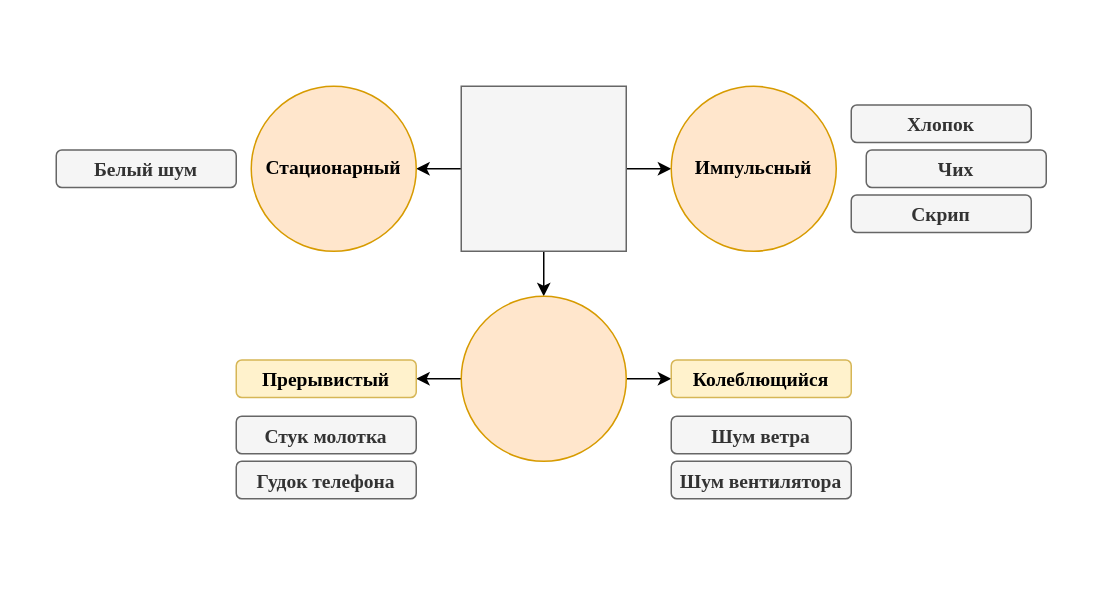
The diagram is 1101 pixels wide and 591 high, and some of its shapes have lost their labels. The shapes that lost their labels are listed below. From the top down, each one's centre as x and y in pixels, then its label:
the point at 543,168: ШУМ
the point at 543,378: Нестационарный
